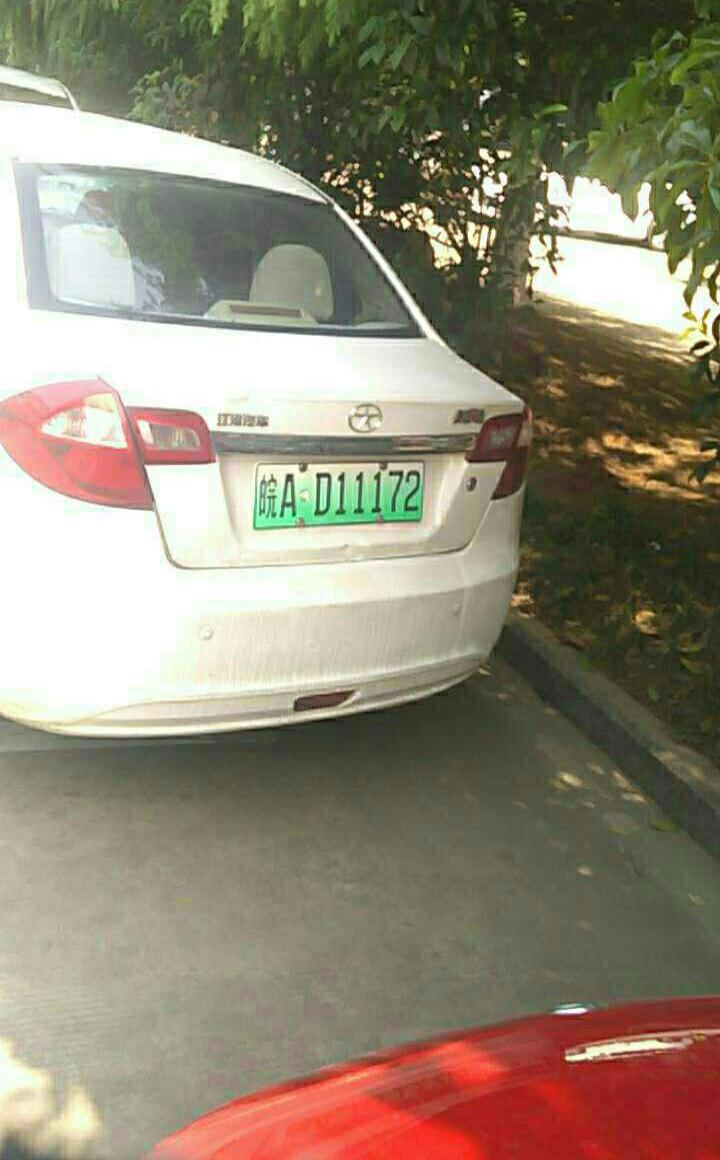car_green: (257, 466, 434, 533)
